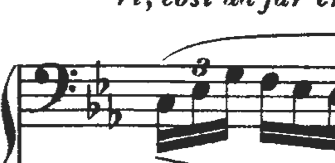bass_clef: (29, 55, 80, 121)
flat: (91, 55, 116, 100), (103, 90, 126, 133), (80, 82, 103, 121)
